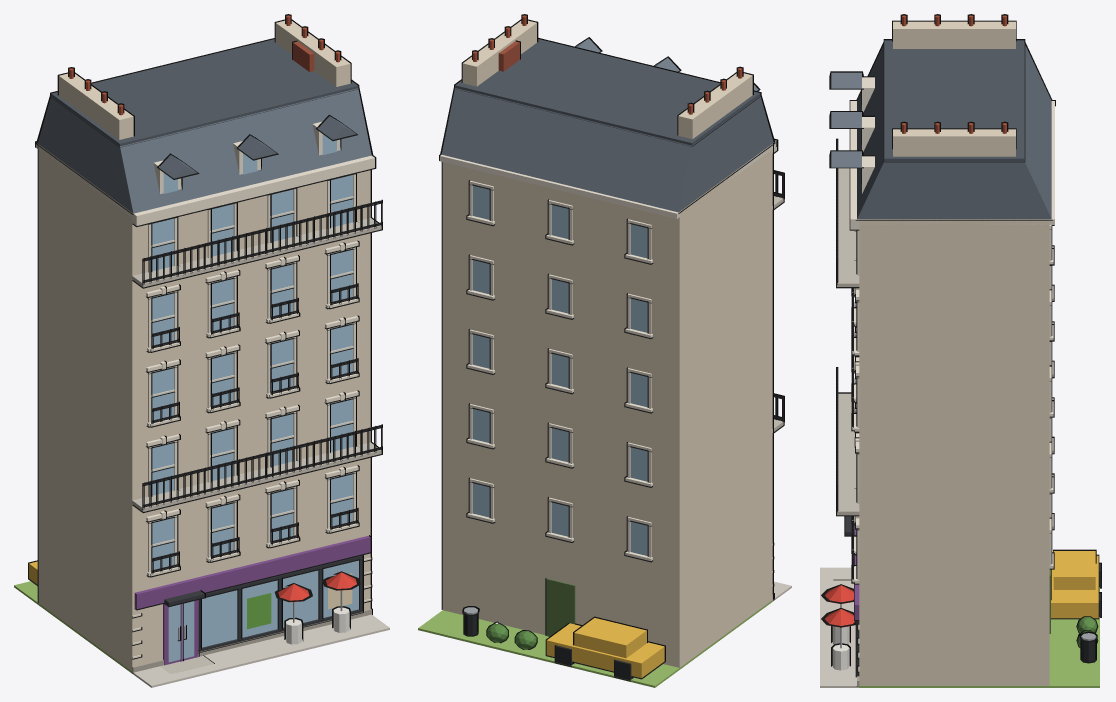
File: Blok_duz_6k_1.fbx
3 renders of one model, left to right at view 1: azimuth 30°, elevation 25°; view 2: azimuth 150°, elevation 25°; view 3: azimuth 270°, elevation 25°, orthographic. The views are drawn at different scales.
Parts seen in each view (by area): view 1: Blok_duz_6k_1; view 2: Blok_duz_6k_1; view 3: Blok_duz_6k_1.
Part boxes in pixels (x1,y1,x2,y2): Blok_duz_6k_1: (14,14,389,687); Blok_duz_6k_1: (418,14,791,687); Blok_duz_6k_1: (820,14,1101,687).
Bounding box in the file's own units: 10.1 × 22.13 × 10.07.
